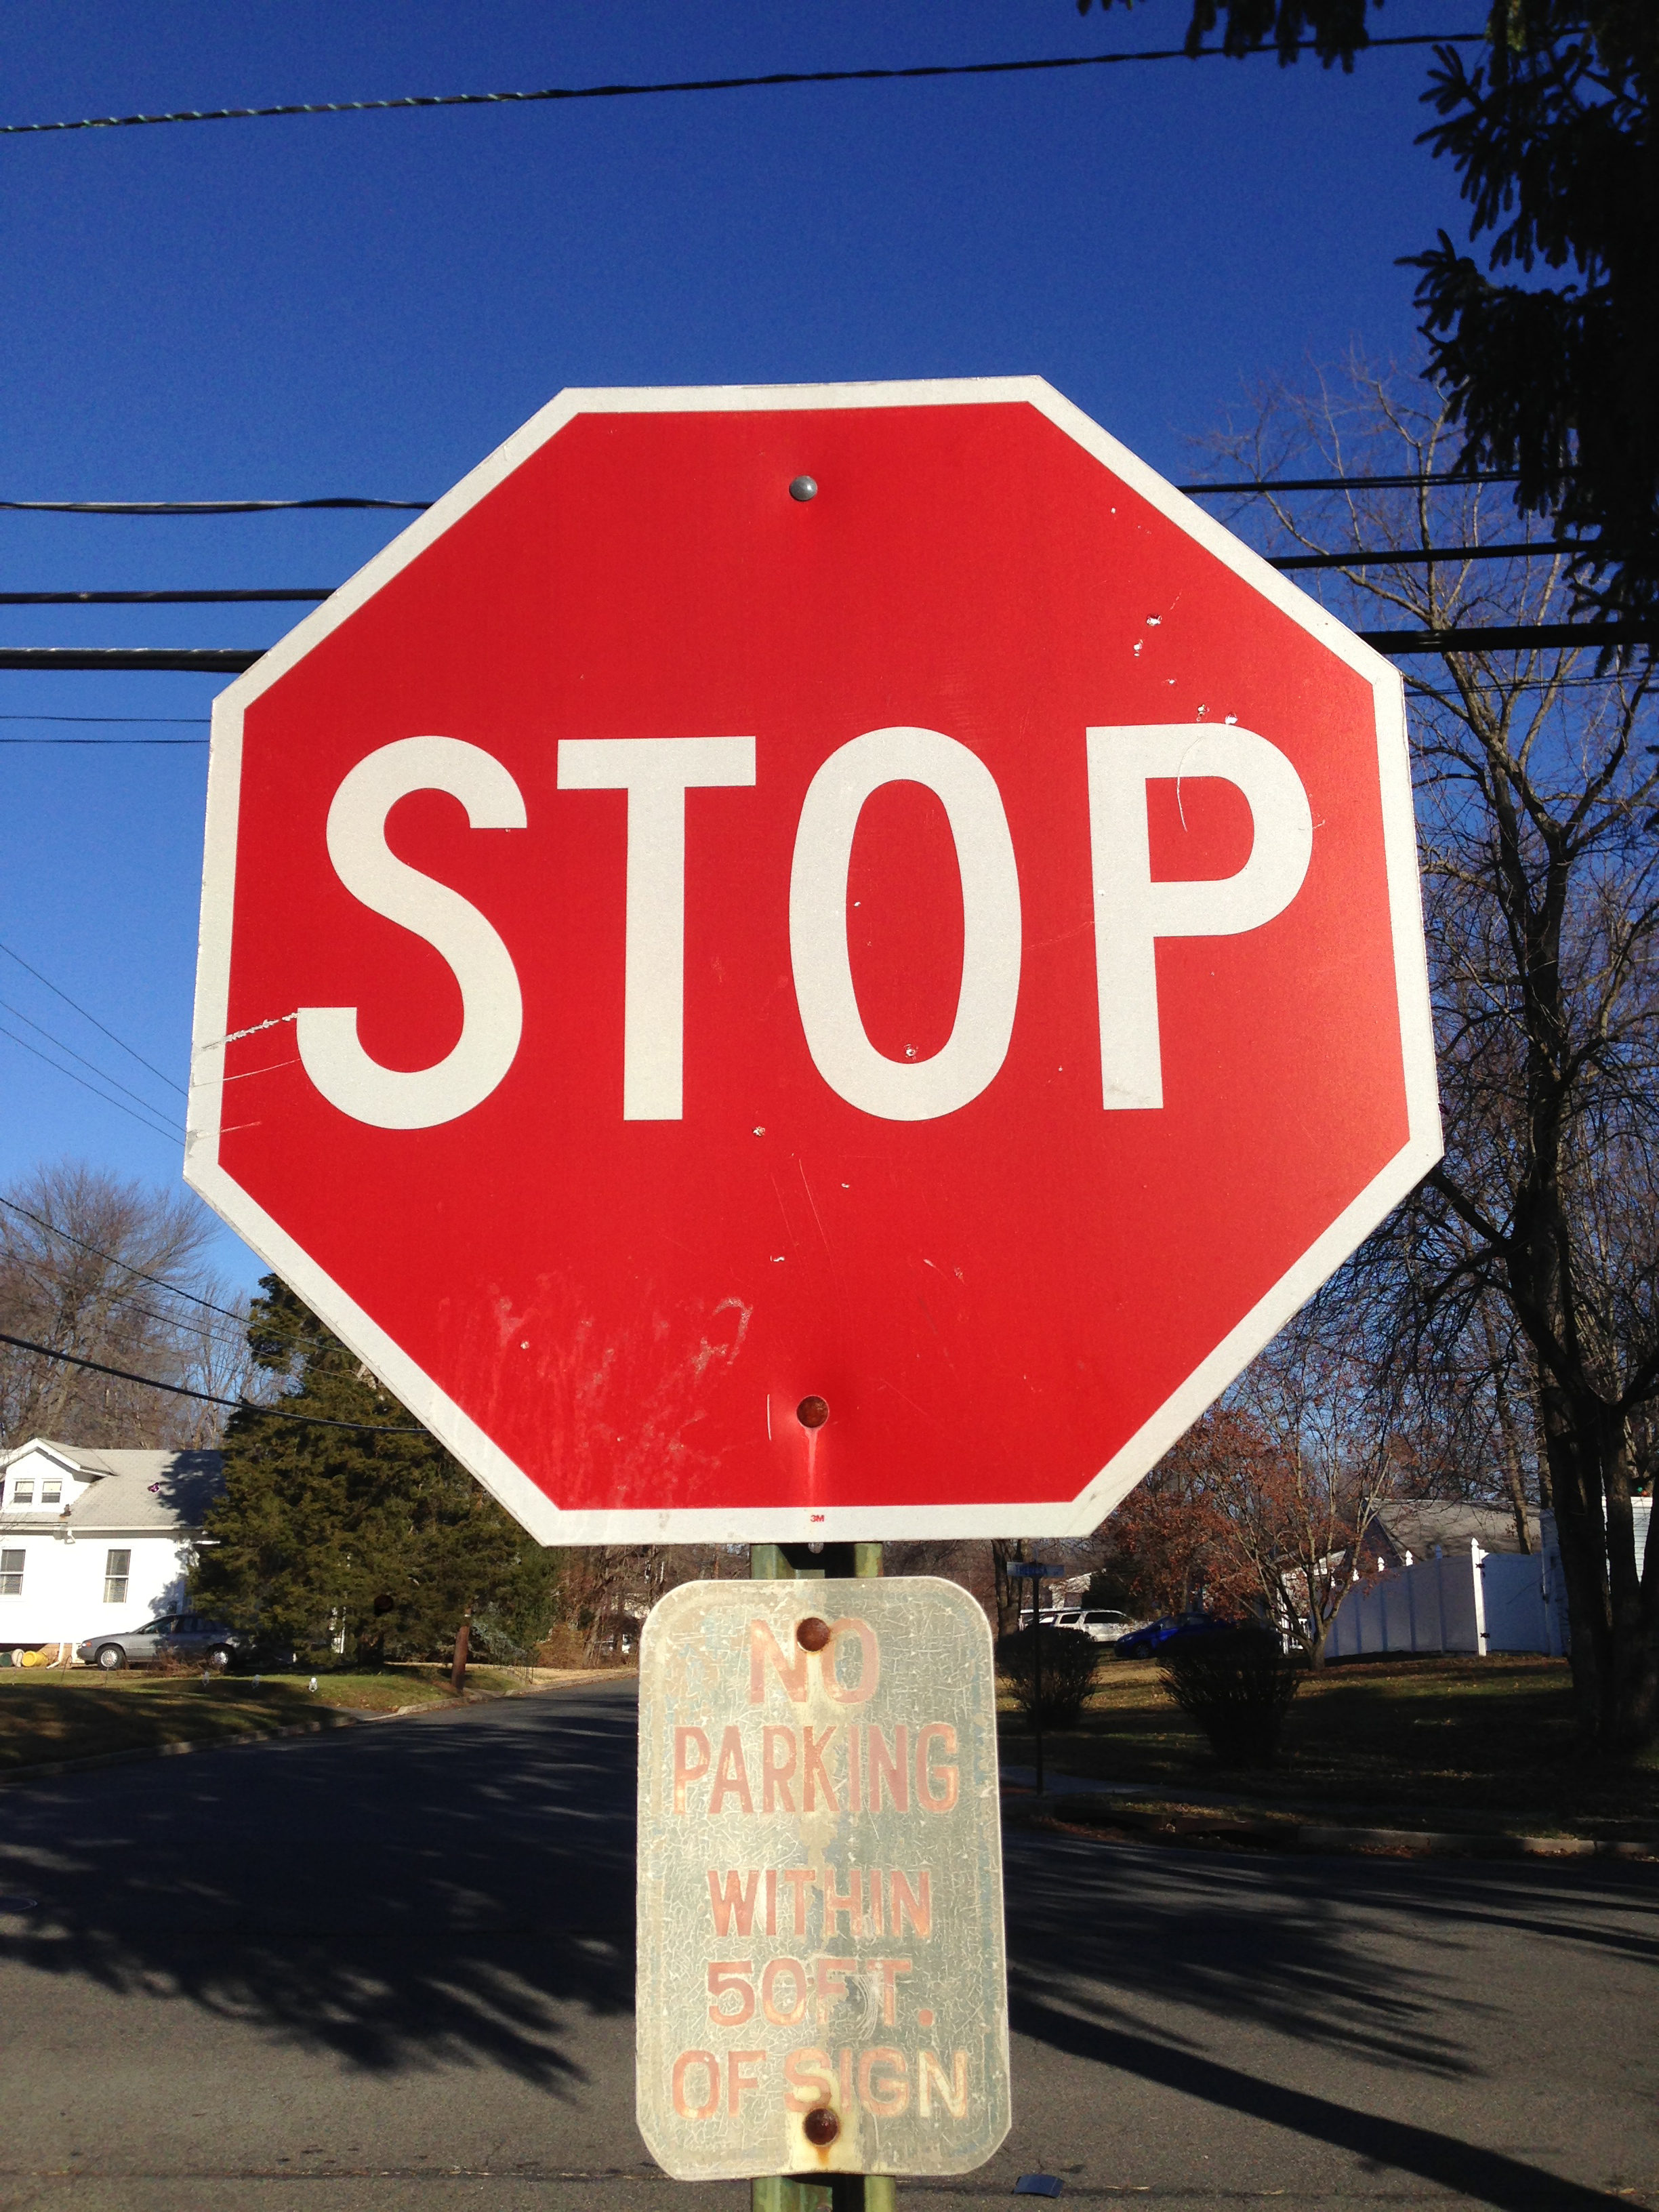stopsign: (186, 369, 1439, 1543)
